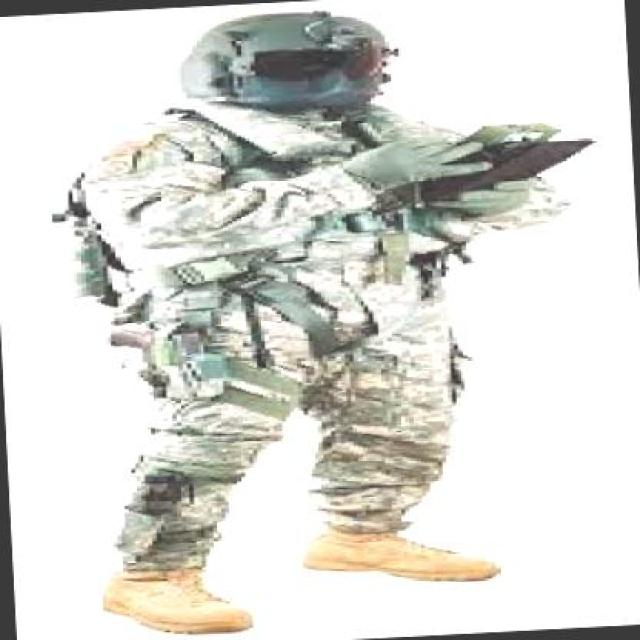MIL_Pax: (49, 0, 495, 638)
